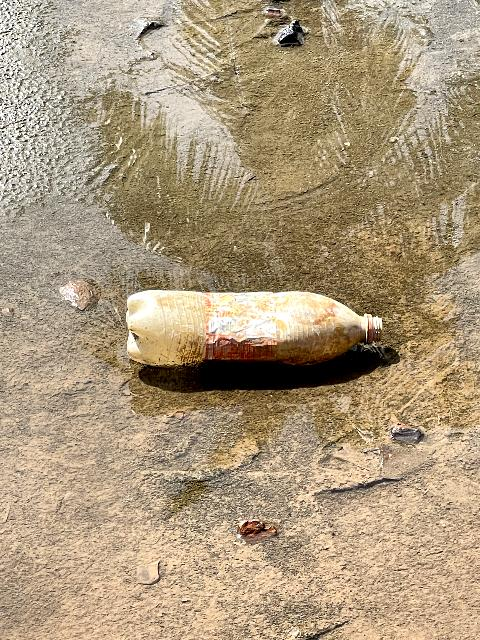bottle: (115, 272, 431, 395)
